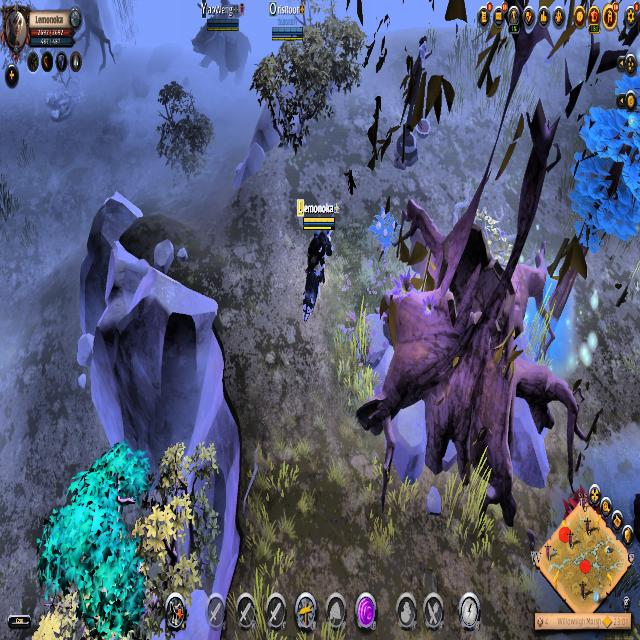fiber tier 4: (370, 202, 400, 266)
wood tier 3: (36, 439, 152, 638)
